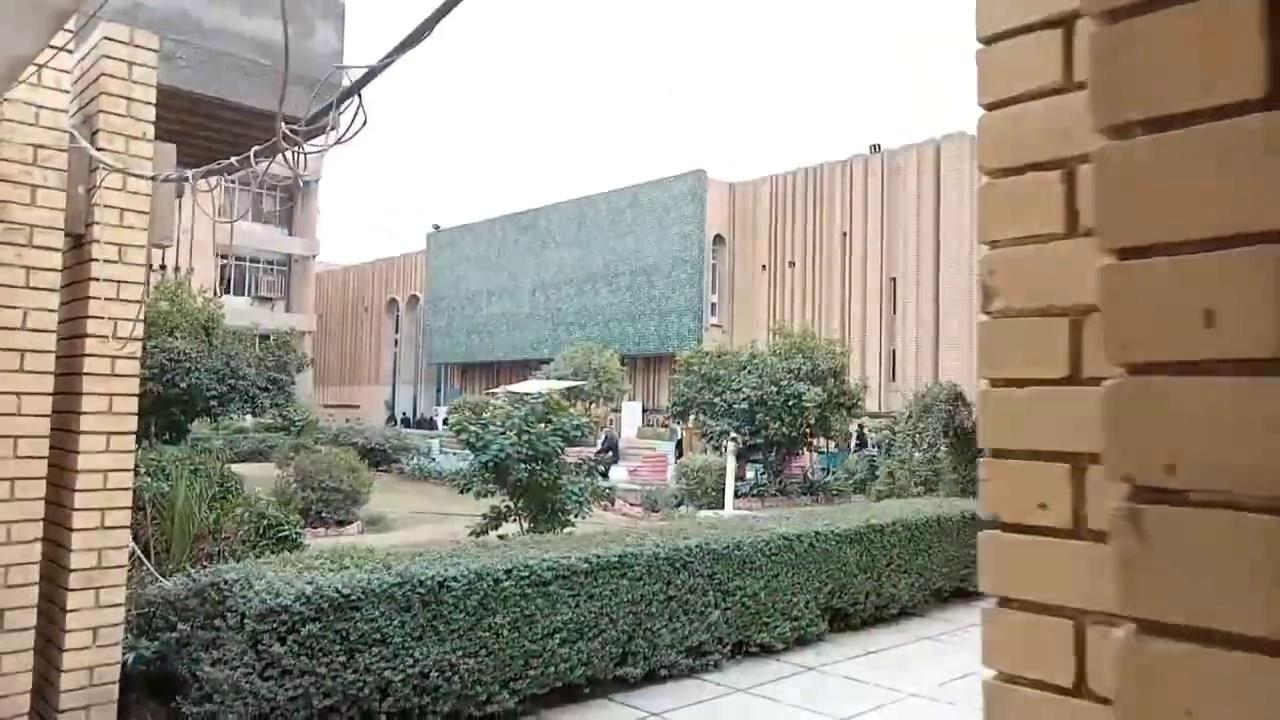person: (593, 425, 619, 478), (852, 422, 869, 453), (415, 412, 428, 429), (399, 411, 410, 428)
tree: (124, 505, 988, 718), (665, 320, 869, 495), (136, 271, 313, 445), (442, 387, 607, 539), (131, 438, 305, 576), (870, 378, 978, 500), (665, 339, 755, 461), (538, 337, 632, 444), (269, 438, 374, 530), (665, 450, 728, 512)
